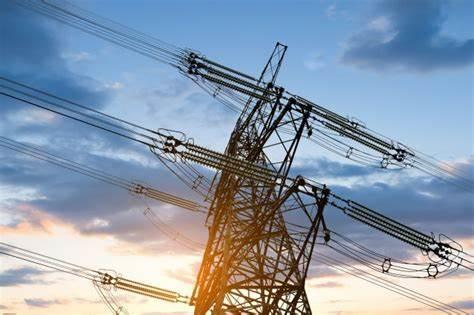power_tower: (87, 37, 463, 315)
